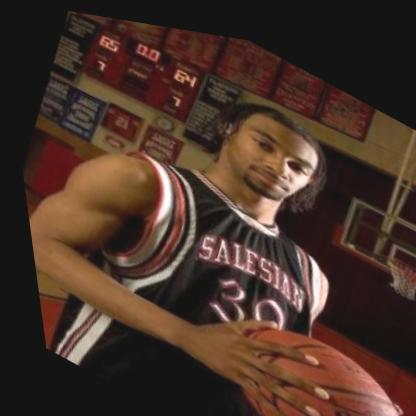basketball: (193, 283, 416, 416)
